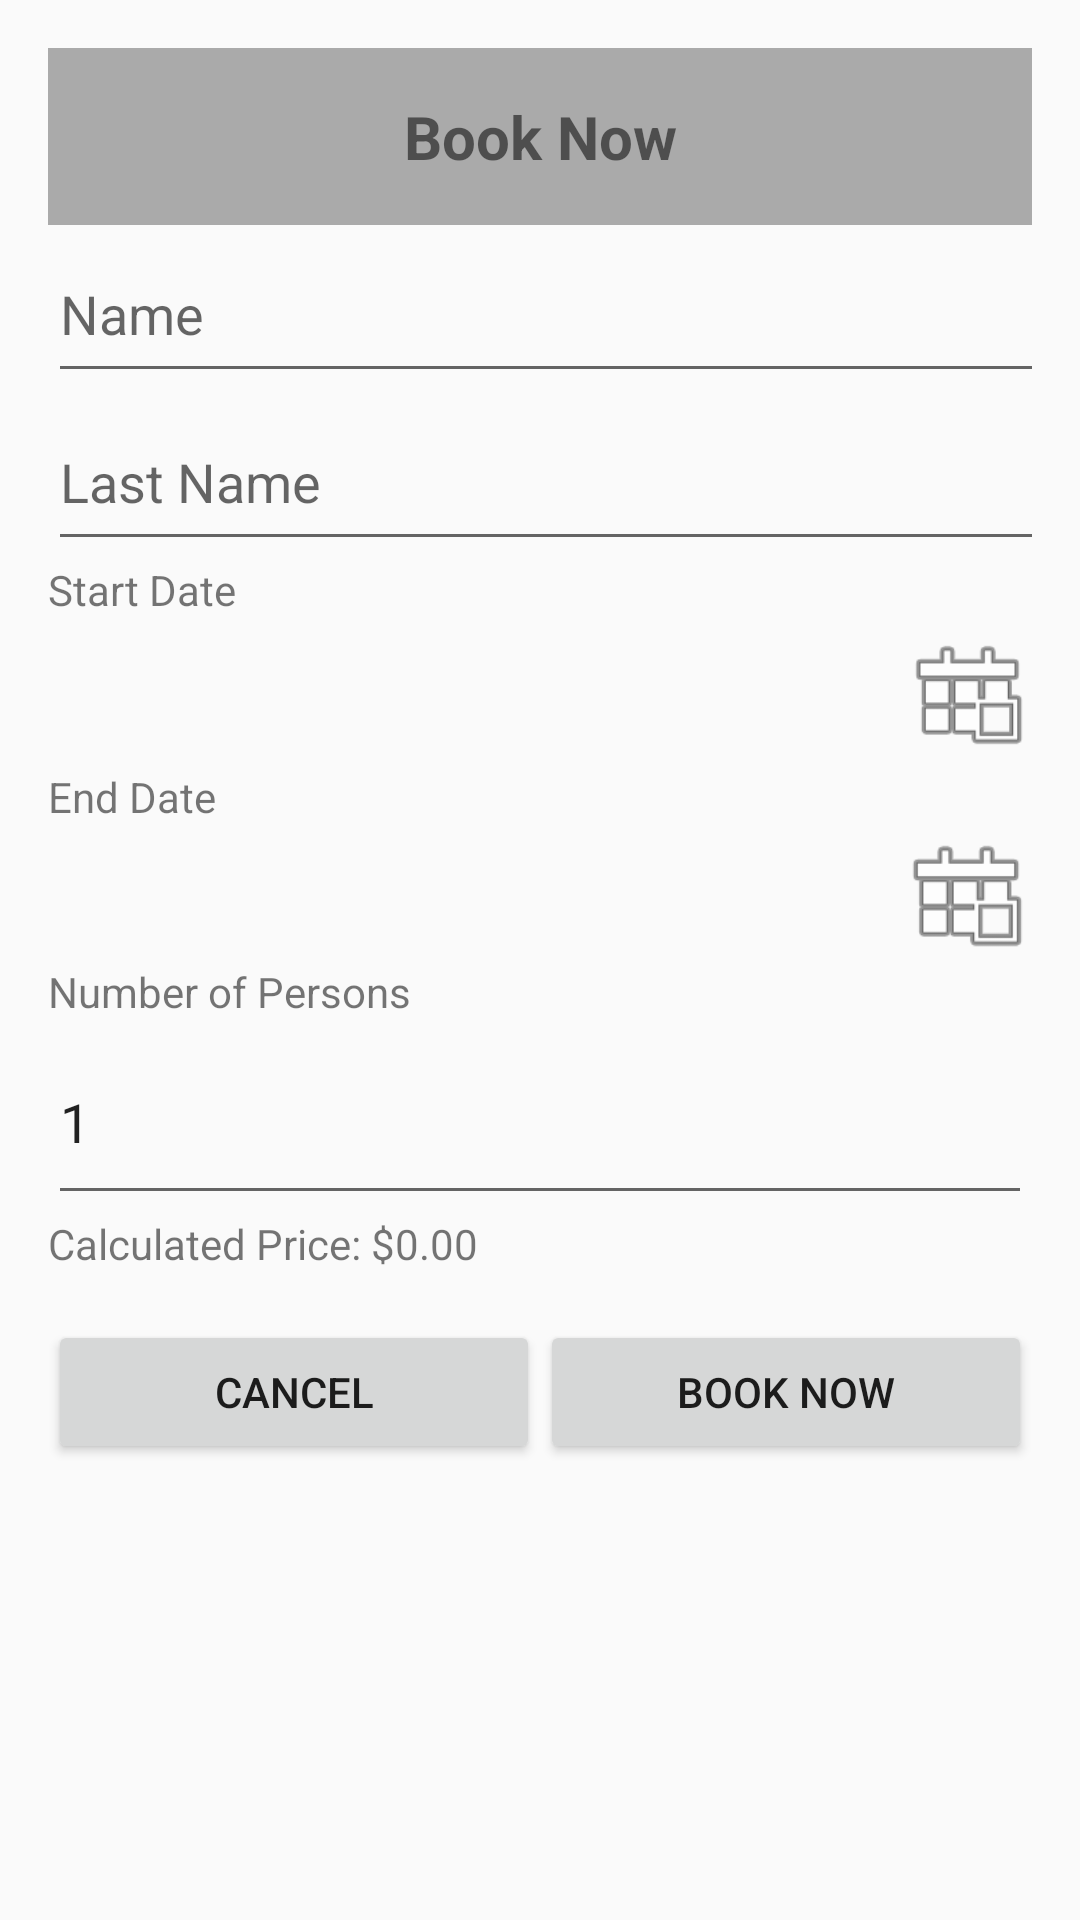

Named icons in this screenshot (1080*1920) and their centers, (x,y):
Calendar Icon: (969,695), (967,896)
